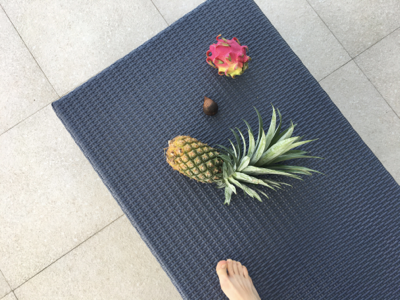dragon fruit: (208, 35, 251, 79)
pineapple: (165, 106, 322, 205)
snake fruit: (203, 95, 218, 116)
